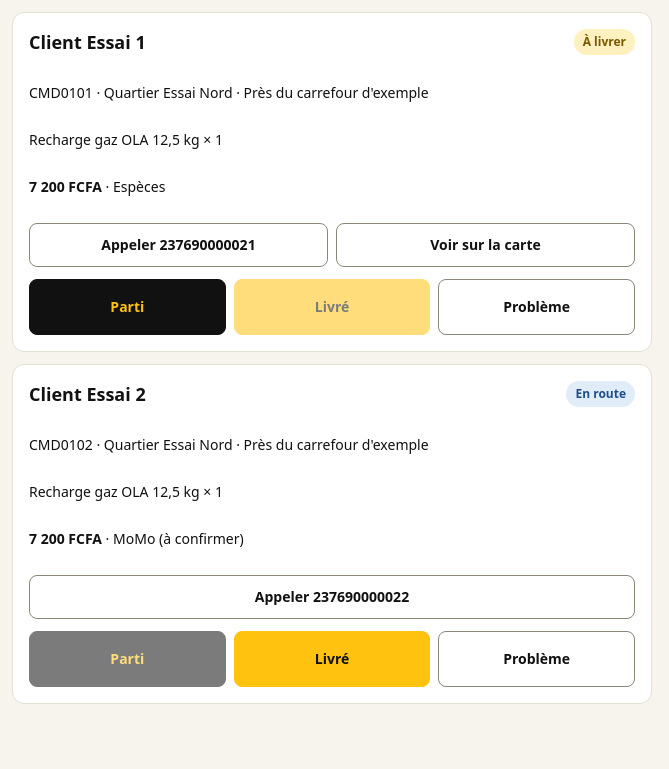
Scenario: mode livreur › avec du réseau, un code faux s'affiche aussitôt et rien n'est mis en file
Expected: the element "CMD0102" is shown, [12, 364, 652, 704]
Click the button "Livré" below "Appeler 237690000022".
click(332, 659)  # box [234, 631, 430, 687]
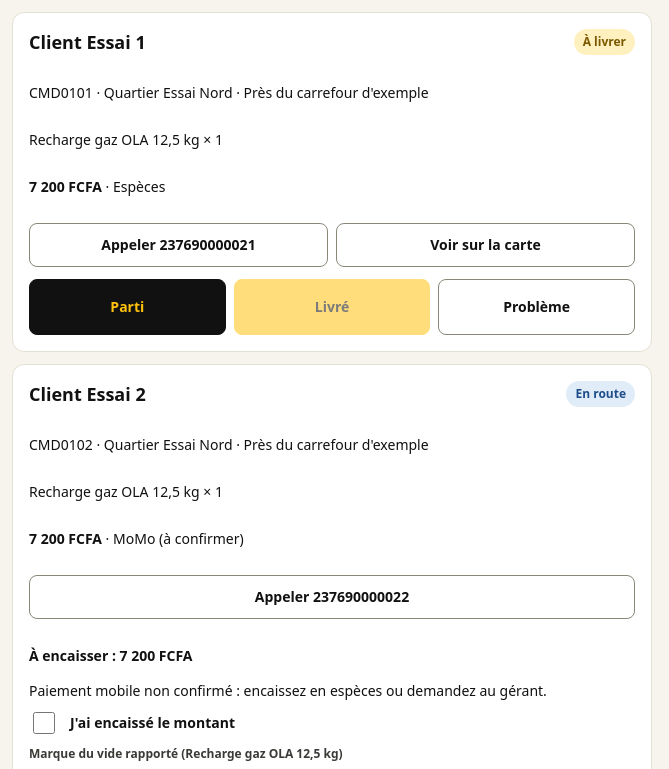
Click the checkbox labelled "J'ai encaissé le montant".
click(44, 723)  # box [33, 712, 55, 734]
(page scrolled)
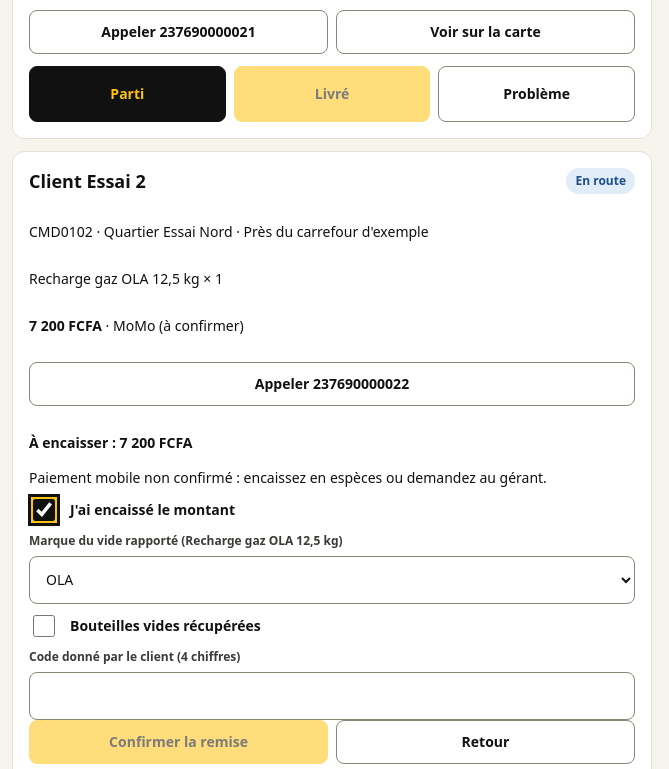
Click the checkbox labelled "Bouteilles vides récupérées".
click(44, 626)  # box [33, 615, 55, 637]
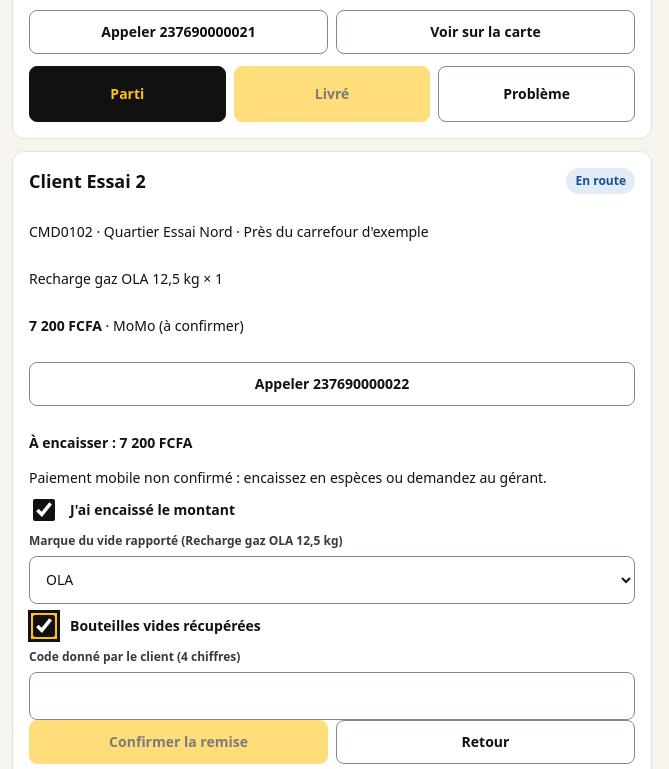
Type "0000" into the field labelled "Code donné par le client (4 chiffres)".
click(332, 696); type("0000")  # box [29, 672, 635, 720]
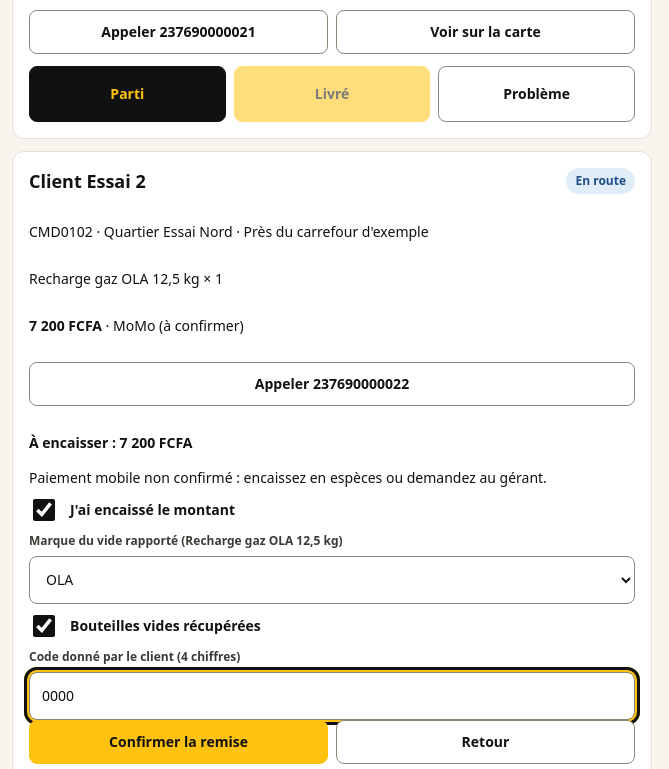
Click the button "Confirmer la remise".
click(178, 742)  # box [29, 720, 328, 764]
(page scrolled)
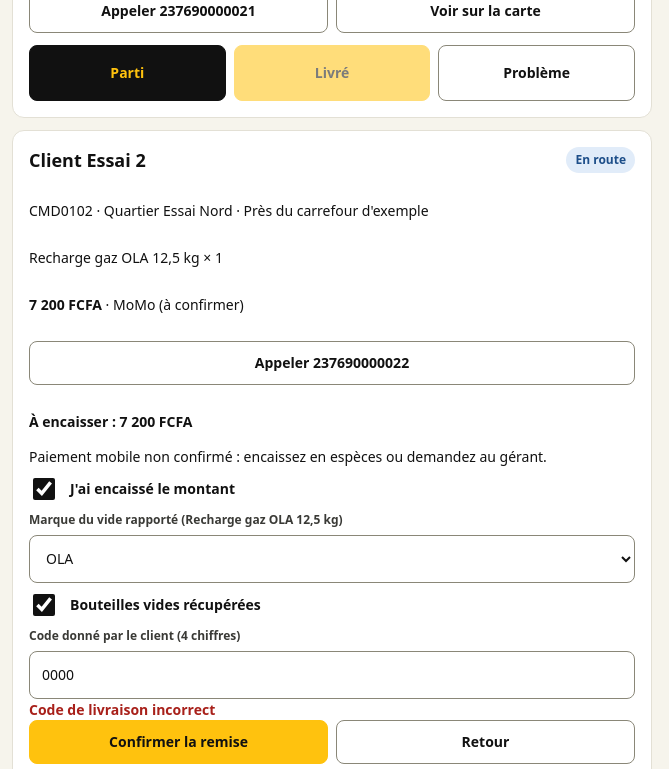
Expected: the message reads "Code de livraison incorrect", [29, 700, 215, 719]
Click the button "Confirmer la remise".
click(178, 742)  # box [29, 720, 328, 764]
(page scrolled)
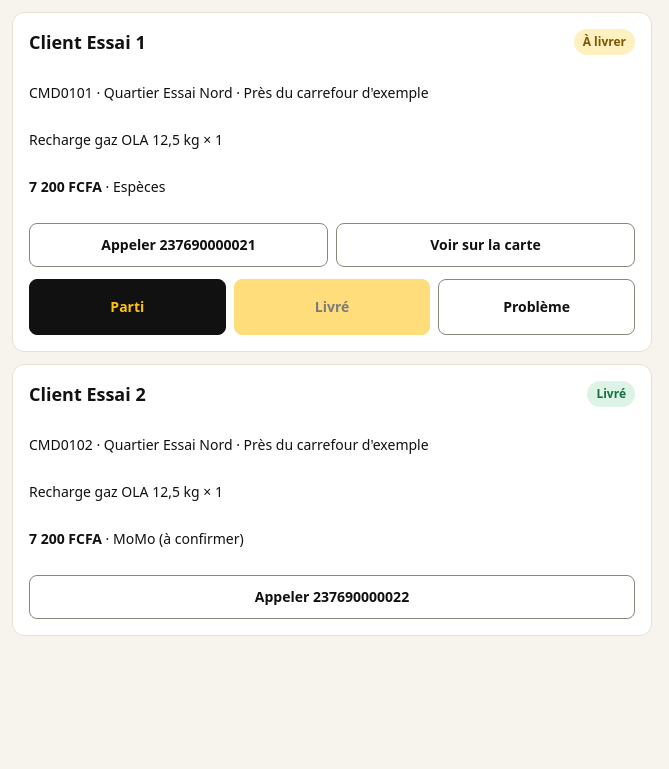
Expected: the button "Confirmer la remise" is gone
